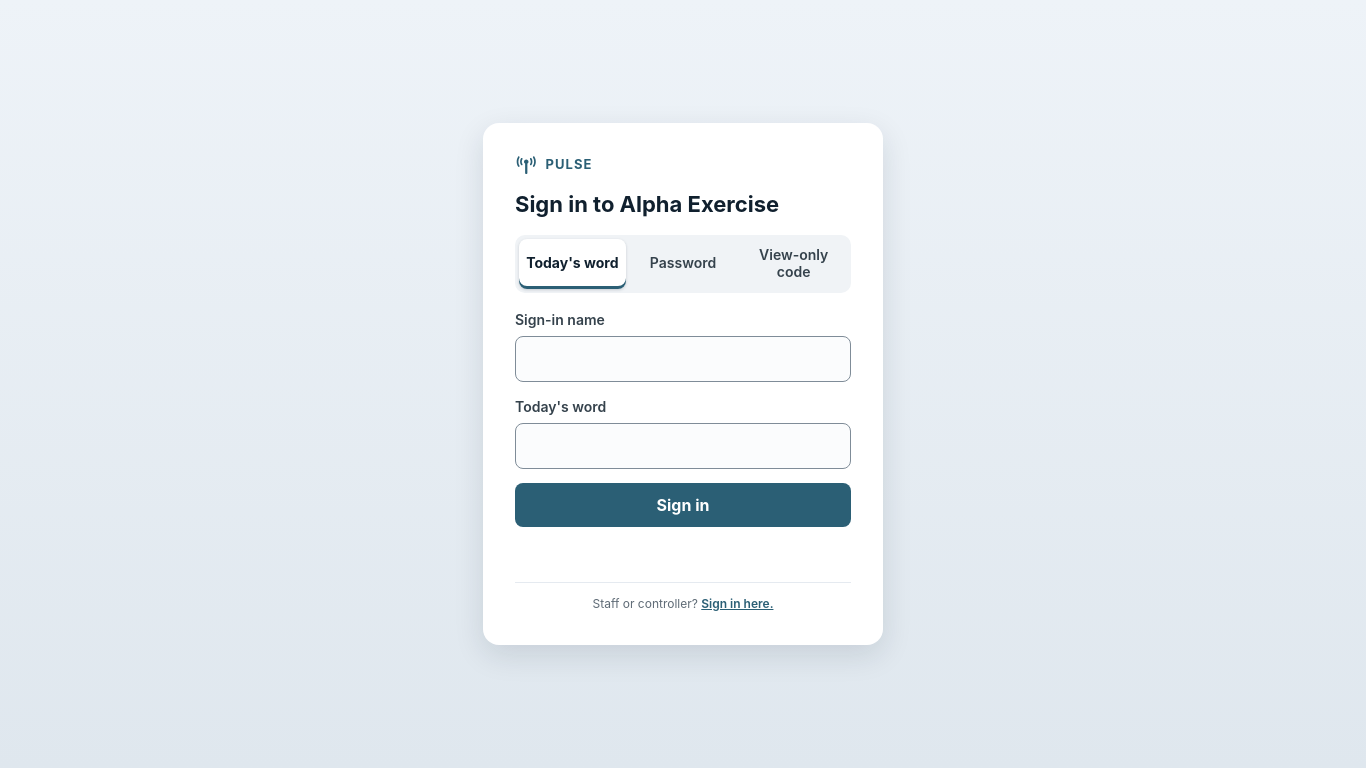
Test: ParticipantSignInPage — three methods, Today's word is the default (09-AC1) › clicking back to Today's word restores that form
The image size is (1366, 768).
Click the button "View-only code".
click(794, 264)  # box [740, 239, 847, 289]
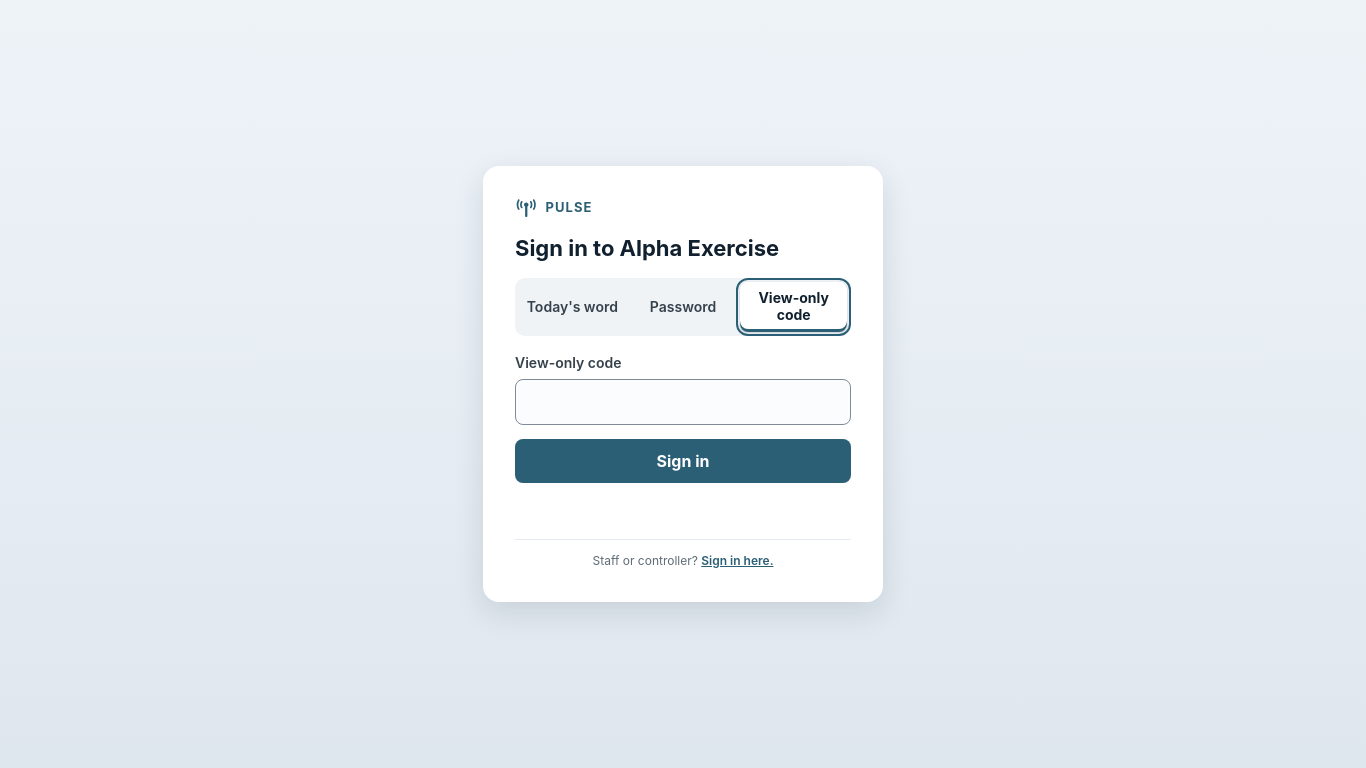
Click the button "Today's word".
click(572, 307)  # box [519, 282, 626, 332]
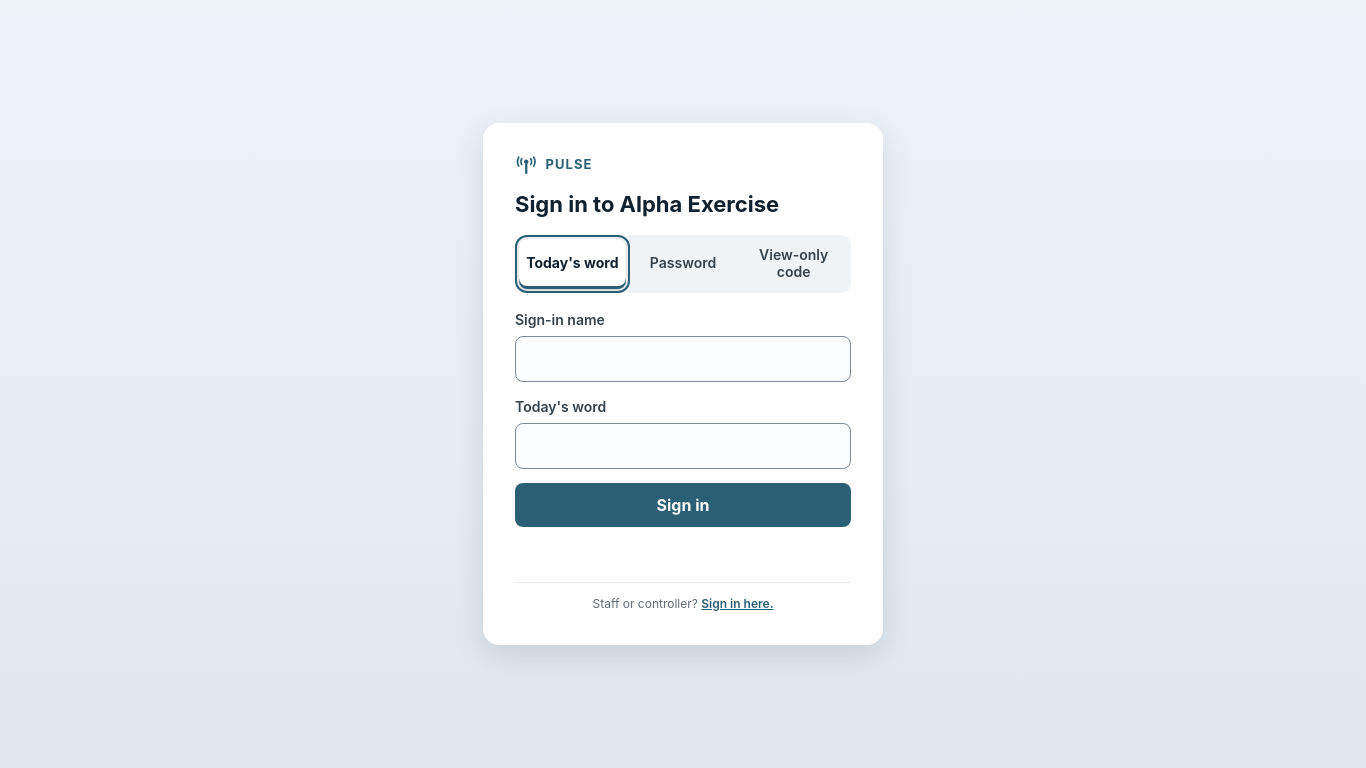
Expected: the field labelled "Today's word" is shown, [515, 422, 851, 468]
